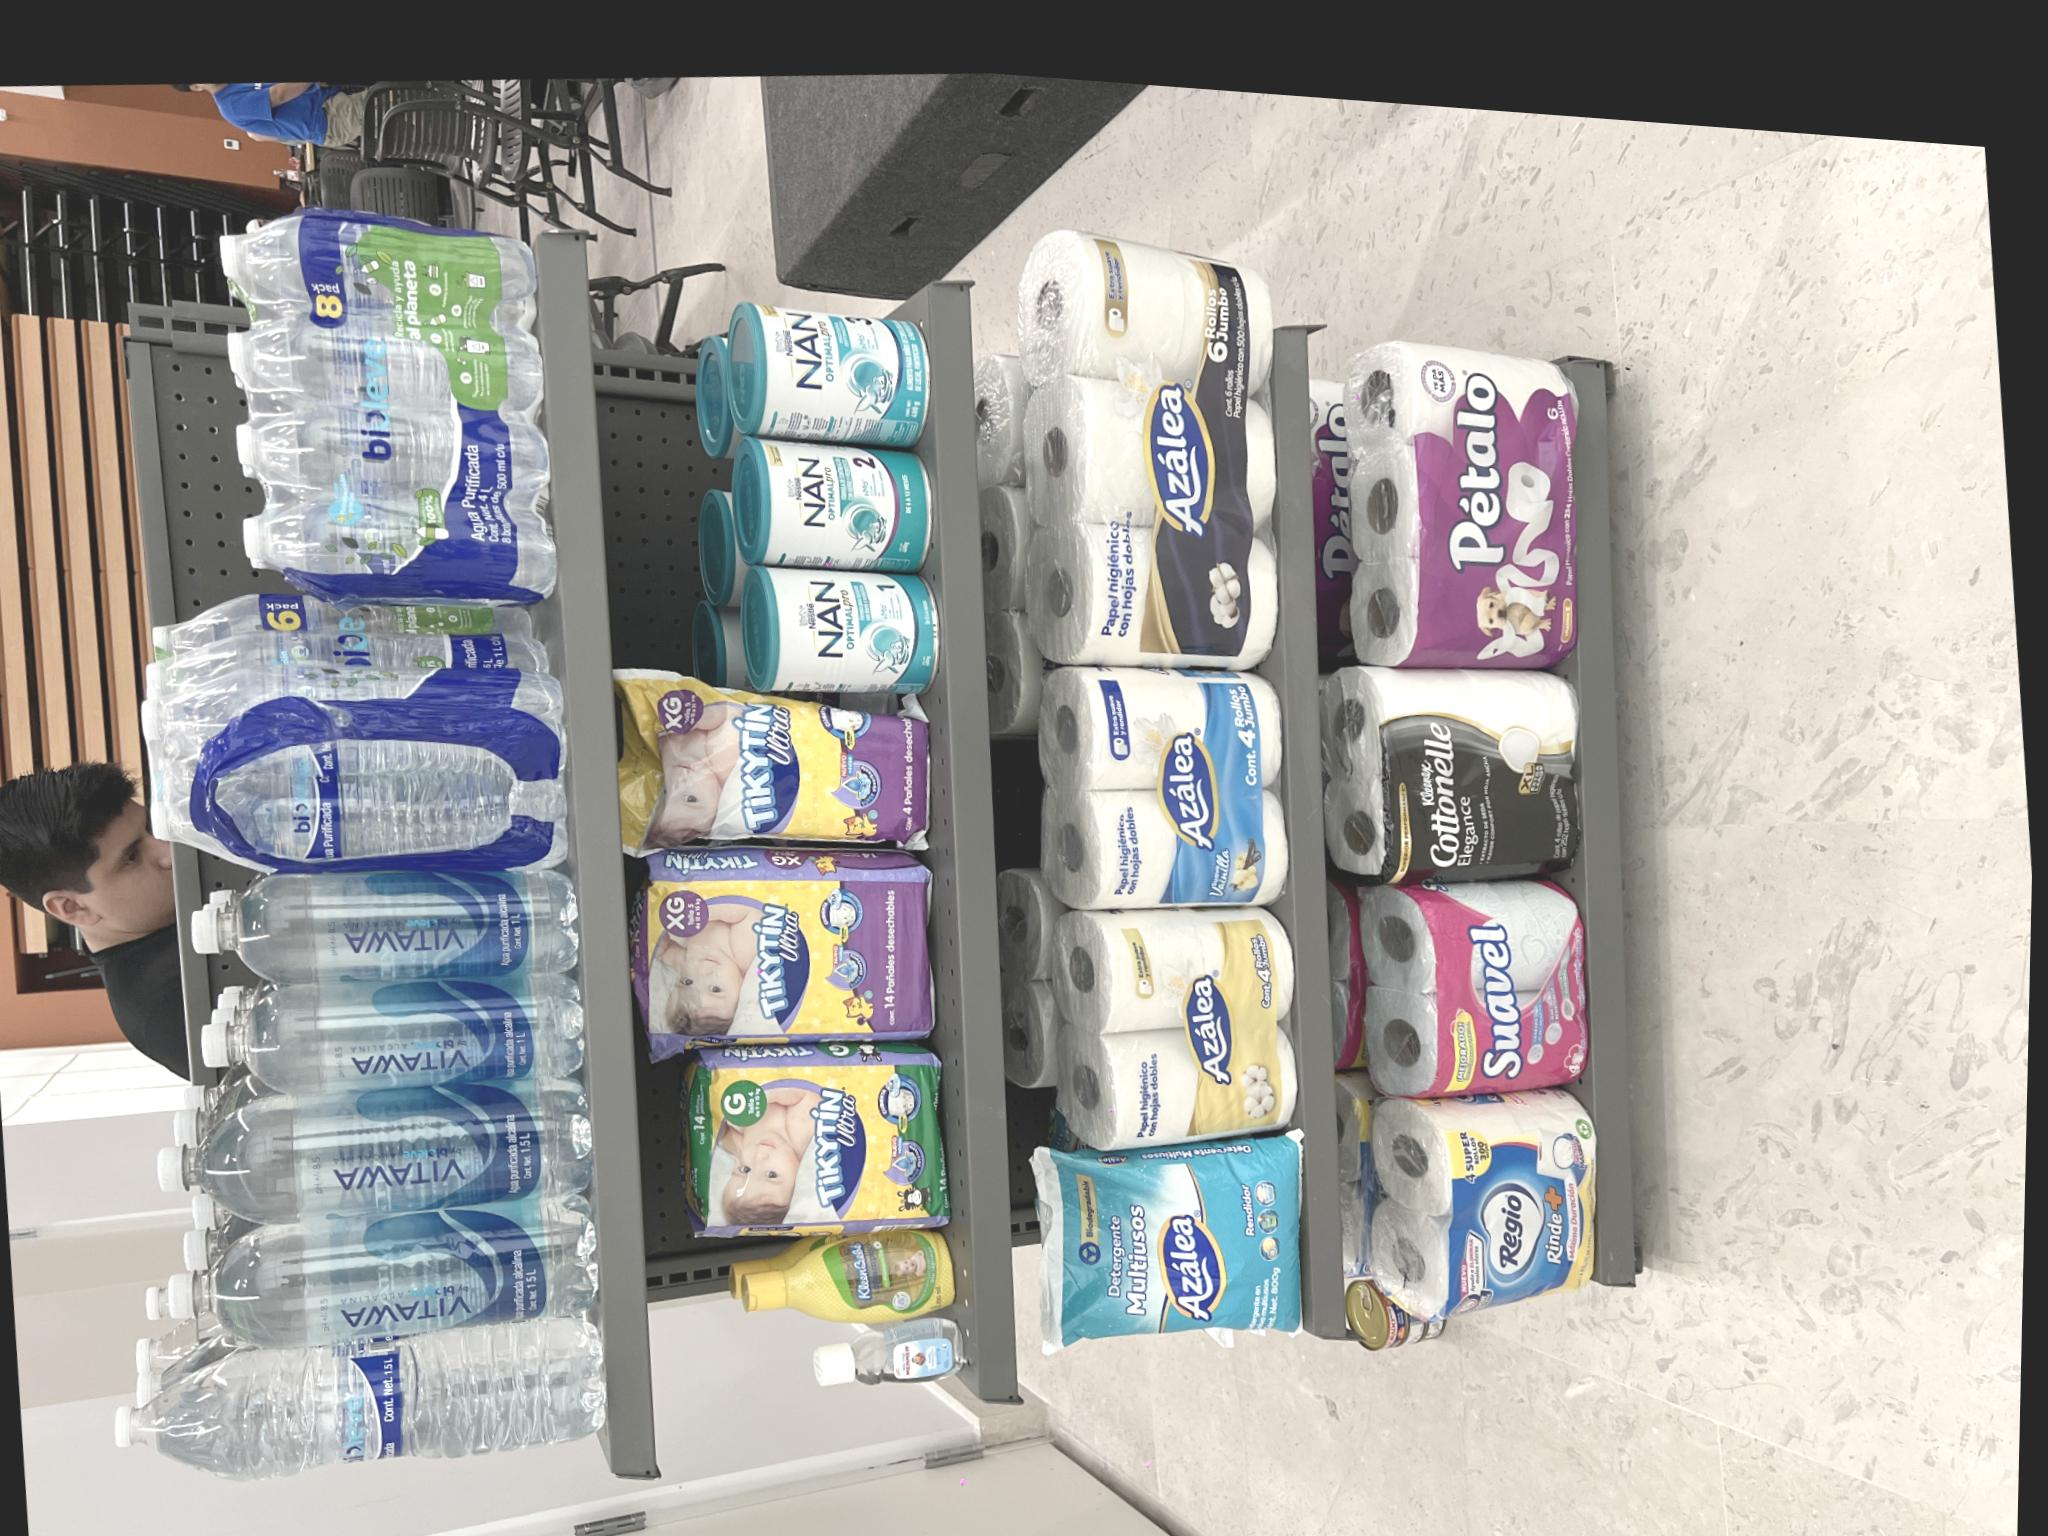aceite_bebe_mennen: (205, 871, 287, 1034)
agua_bioleve: (73, 148, 261, 678)
agua_bioleve_6pack: (681, 215, 995, 686), (987, 319, 1377, 689)
agua_vitawa_1L: (571, 273, 721, 671), (469, 269, 616, 676)
agua_vitawa_1_5L: (213, 227, 400, 679), (343, 221, 513, 684)
detergente_azaela: (256, 1100, 492, 1400)
nan_nestle_1: (913, 863, 1040, 1050)
nan_nestle_2: (1032, 858, 1169, 1052)
nan_nestle_3: (1171, 855, 1308, 1057)
panales_tikytin_extragrande: (529, 712, 750, 1050), (726, 703, 937, 1054)
panales_tikytin_grande: (350, 765, 564, 1044)
papelhigenico_azaela_6rollos: (951, 1154, 1382, 1434)
papelhigenico_azaela_amarillo: (472, 1176, 705, 1396)
papelhigenico_azaela_azul: (710, 1176, 958, 1404)
papelhigenico_kleenex_cottonelle: (737, 1467, 953, 1536)
papelhigenico_petalo: (972, 1489, 1284, 1536)
papelhigenico_regio: (314, 1496, 531, 1536)
papelhigenico_suavel: (535, 1488, 743, 1536)
shampoo_bebe: (268, 810, 373, 1036)
